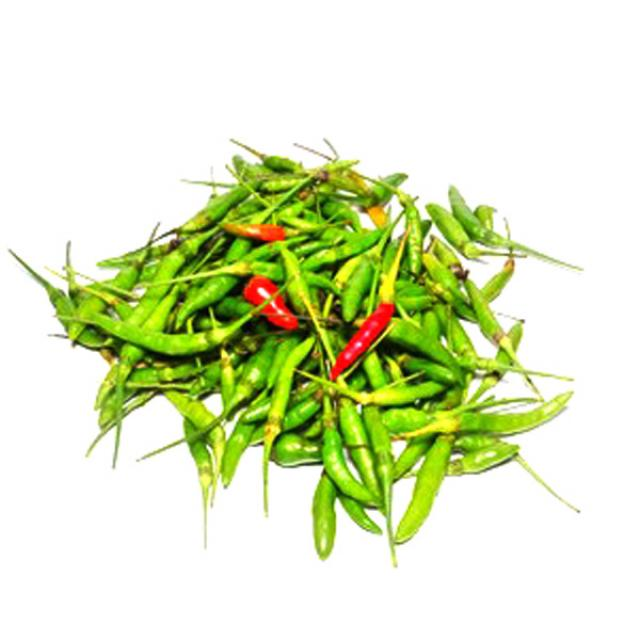green chilli: (84, 314, 253, 356), (396, 435, 455, 545), (461, 393, 574, 436), (323, 428, 378, 506), (313, 474, 337, 561)
red chili: (332, 304, 396, 381)
